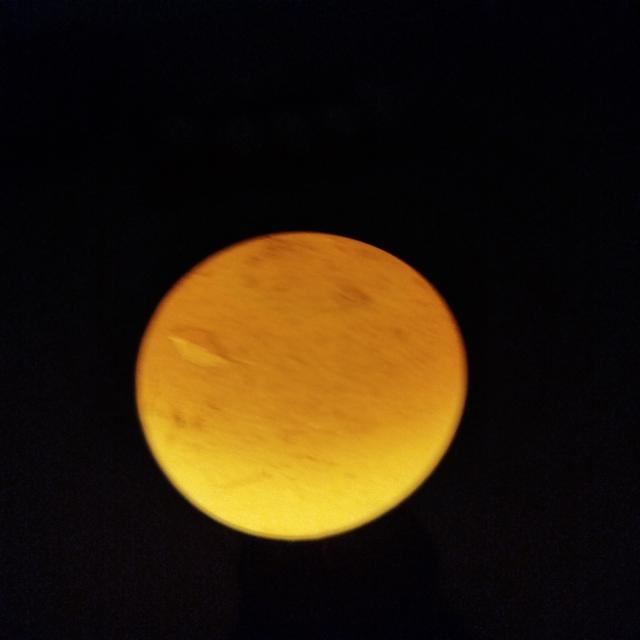Rachadura: (171, 331, 240, 367)
